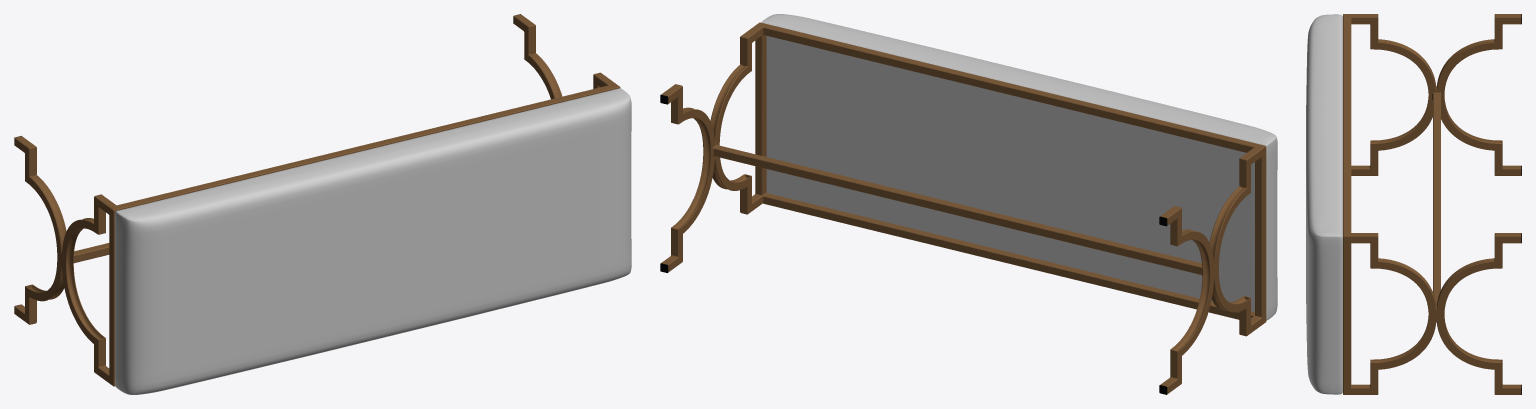
Rendered from LaylaGrayce_Cream_Double_Bench.obj.
The picture shows the model from 3 angles, left to right: view 1: azimuth 30°, elevation 25°; view 2: azimuth 150°, elevation 25°; view 3: azimuth 270°, elevation 25°; orthographic projection. The views are drawn at different scales.
Parts seen in each view (by area): view 1: LaylaGrayce_Cream_Double_Bench; view 2: LaylaGrayce_Cream_Double_Bench; view 3: LaylaGrayce_Cream_Double_Bench.
Part boxes in pixels (left/top/right/bottom): LaylaGrayce_Cream_Double_Bench: left=14, top=14, right=631, bottom=394; LaylaGrayce_Cream_Double_Bench: left=660, top=14, right=1277, bottom=394; LaylaGrayce_Cream_Double_Bench: left=1306, top=14, right=1521, bottom=394.
Size of the model in its own units: 130 by 43.68 by 53.11.
